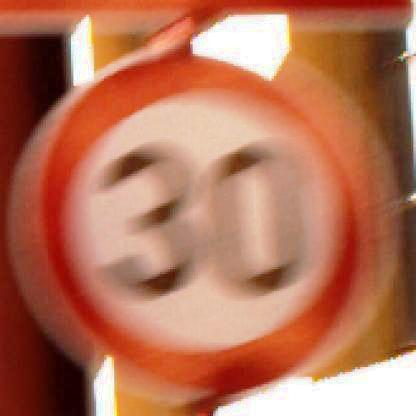Speed Limit -30-: (10, 48, 386, 403)
